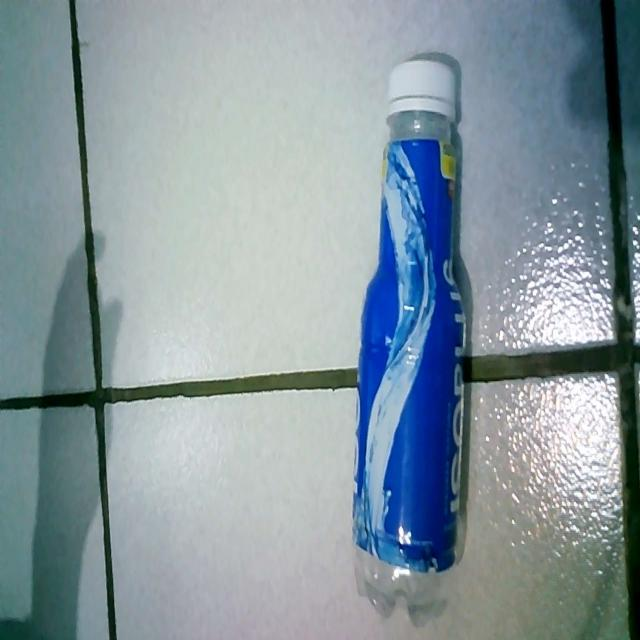botol: (338, 39, 496, 622)
